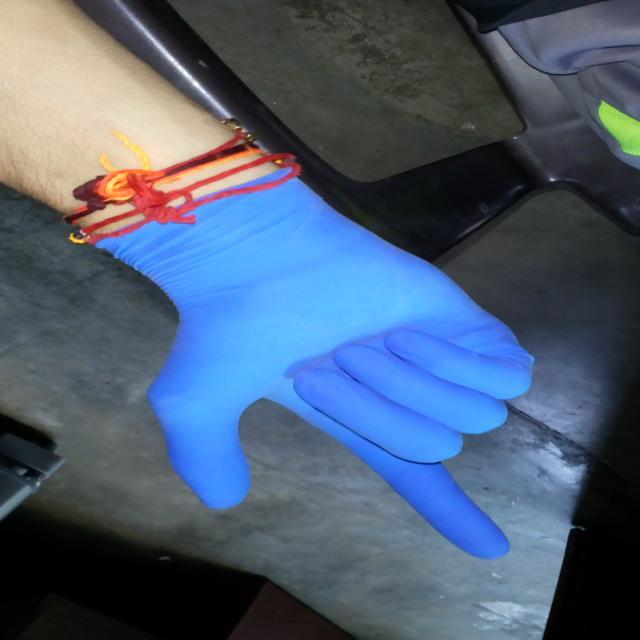gloved_hand: (64, 165, 552, 567)
